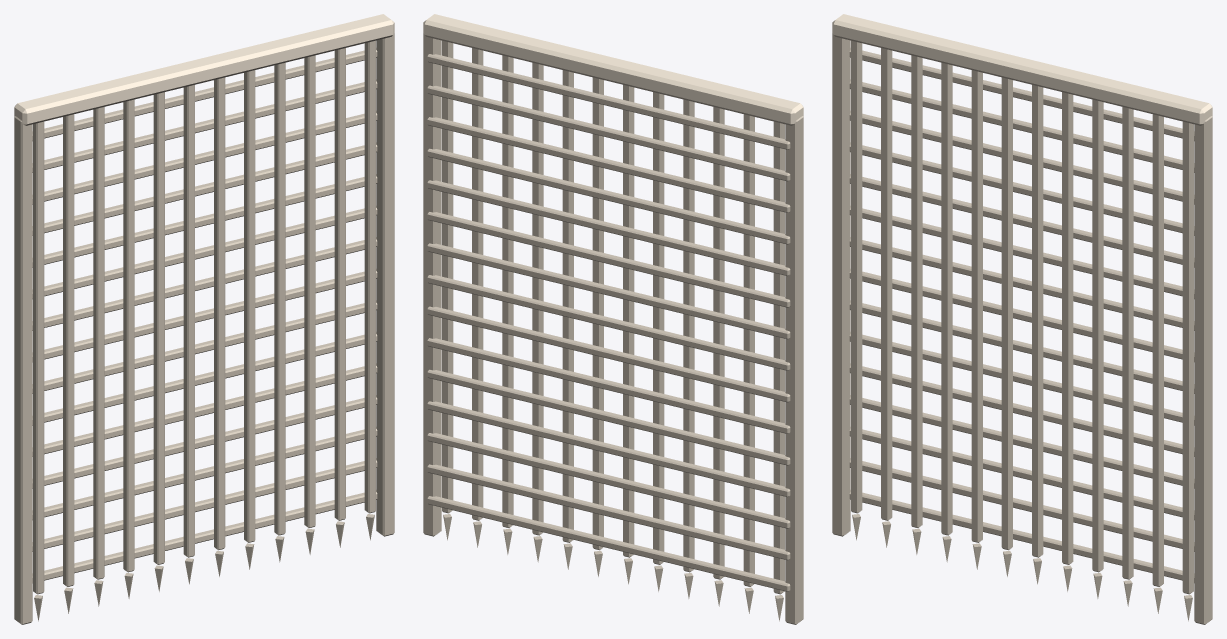
File: SM_VK_Gatehouse_Portcullis.fbx
3 views of the same model, side by side, from view 1: azimuth 30°, elevation 25°; view 2: azimuth 150°, elevation 25°; view 3: azimuth 330°, elevation 25° (orthographic).
Parts seen in each view (by area): view 1: SM_VK_Gatehouse_Portcullis.001; view 2: SM_VK_Gatehouse_Portcullis.001; view 3: SM_VK_Gatehouse_Portcullis.001.
Part boxes in pixels (box(x1,y1,x2,y2)): SM_VK_Gatehouse_Portcullis.001: box(14, 14, 394, 624); SM_VK_Gatehouse_Portcullis.001: box(423, 14, 803, 624); SM_VK_Gatehouse_Portcullis.001: box(832, 14, 1212, 624).
Size of the model in its own units: 3.72 by 4.94 by 0.205.
